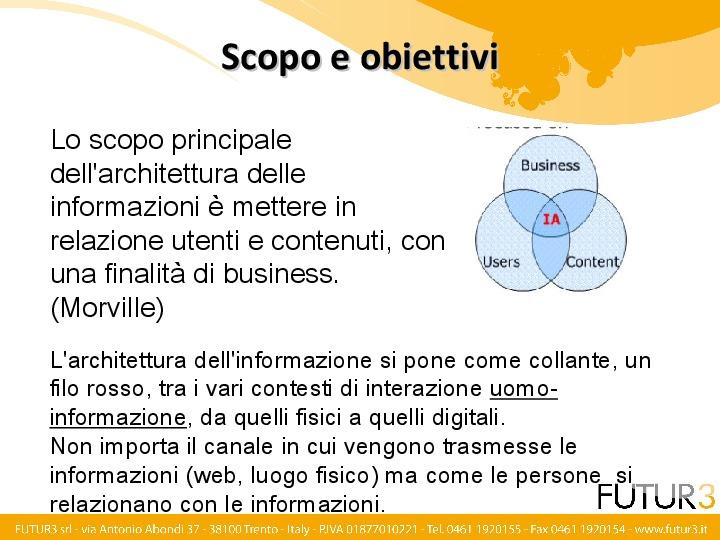paragraph: (39, 109, 698, 522)
title: (222, 30, 507, 90)
